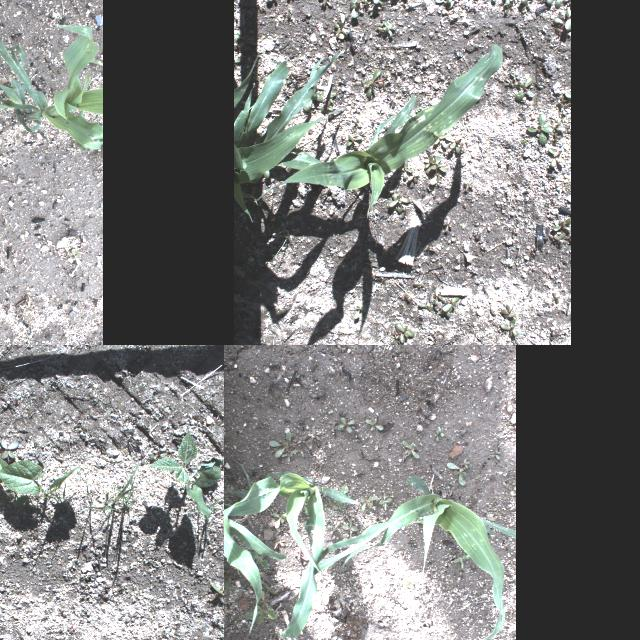crop: (252, 42, 502, 218), (298, 475, 516, 640), (224, 459, 359, 638), (234, 50, 344, 224), (0, 7, 102, 153), (224, 494, 287, 633), (149, 431, 224, 519), (0, 455, 80, 499), (234, 51, 258, 108)
weed: (88, 460, 140, 516), (244, 585, 276, 625), (268, 432, 298, 464), (526, 114, 554, 146), (270, 230, 294, 262), (0, 431, 23, 461), (429, 156, 447, 186), (364, 68, 381, 98), (516, 76, 534, 102), (388, 193, 409, 213), (207, 577, 224, 601), (442, 296, 462, 316), (394, 324, 414, 344), (304, 91, 324, 111), (554, 6, 570, 30), (549, 148, 567, 168), (500, 317, 518, 337), (349, 0, 370, 17), (402, 440, 420, 458), (333, 14, 349, 34), (0, 224, 17, 242), (445, 135, 461, 153), (337, 417, 355, 433), (360, 496, 378, 512), (435, 0, 463, 10), (453, 554, 473, 568), (338, 485, 348, 511), (251, 552, 267, 568), (68, 248, 82, 266), (382, 20, 396, 38), (365, 417, 383, 431), (378, 493, 392, 511), (554, 218, 570, 232), (342, 519, 358, 533), (273, 512, 287, 528), (447, 462, 473, 470), (346, 134, 362, 146), (554, 233, 566, 249), (407, 168, 419, 184), (424, 156, 436, 172), (454, 469, 466, 485), (298, 500, 310, 516), (552, 127, 562, 145), (93, 594, 111, 604), (502, 306, 516, 318), (126, 611, 138, 625), (434, 288, 444, 304), (354, 306, 364, 320), (368, 6, 382, 16), (505, 0, 514, 15), (328, 497, 339, 509), (321, 101, 334, 111), (311, 429, 321, 441), (274, 540, 286, 550), (419, 304, 433, 312), (562, 96, 570, 110), (328, 92, 337, 104), (404, 161, 410, 179), (556, 0, 568, 9), (364, 0, 385, 5), (324, 345, 345, 350), (556, 118, 566, 128), (492, 450, 502, 460), (224, 579, 229, 599), (259, 580, 269, 590), (462, 458, 471, 469), (295, 436, 307, 444), (510, 72, 520, 80), (506, 78, 514, 88), (404, 580, 414, 588), (318, 0, 331, 6), (297, 448, 305, 456), (482, 476, 490, 484), (416, 515, 424, 523), (565, 90, 571, 100), (438, 428, 444, 438), (294, 423, 300, 433), (554, 292, 558, 304), (435, 430, 439, 442), (490, 508, 498, 514), (260, 571, 266, 579), (471, 476, 481, 480), (98, 203, 102, 211), (286, 11, 290, 19), (234, 58, 240, 62), (328, 410, 334, 414), (234, 34, 238, 38), (514, 486, 516, 489)
